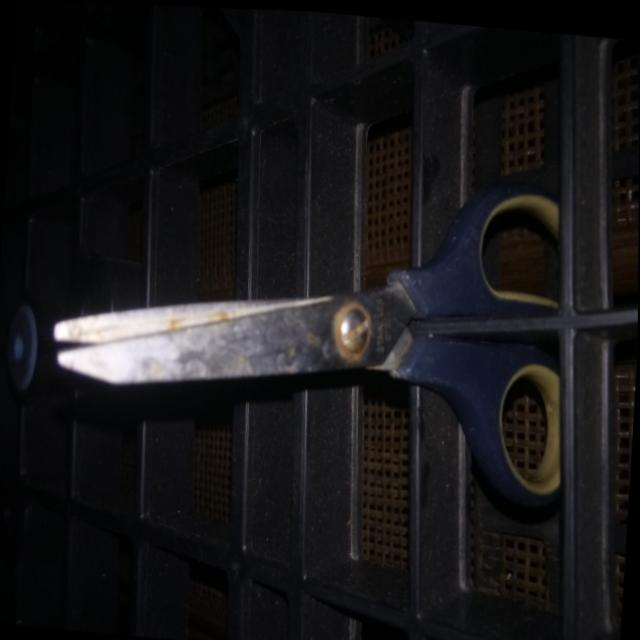scissor: (30, 128, 583, 565)
